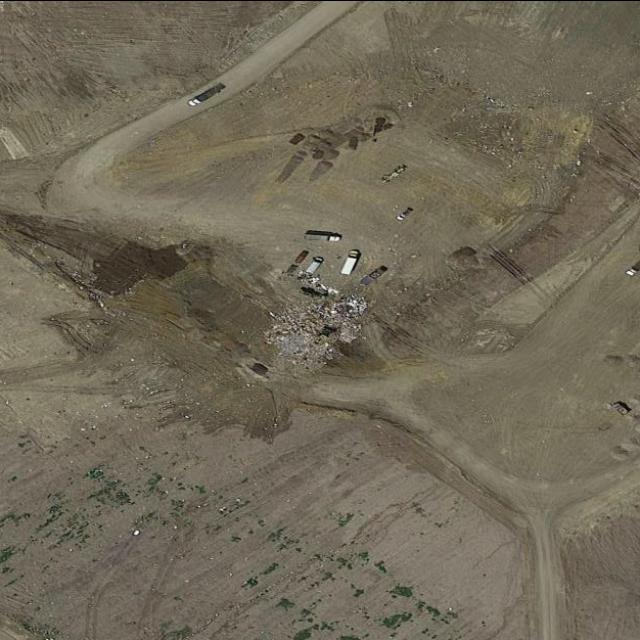dump_site: (252, 272, 382, 377)
